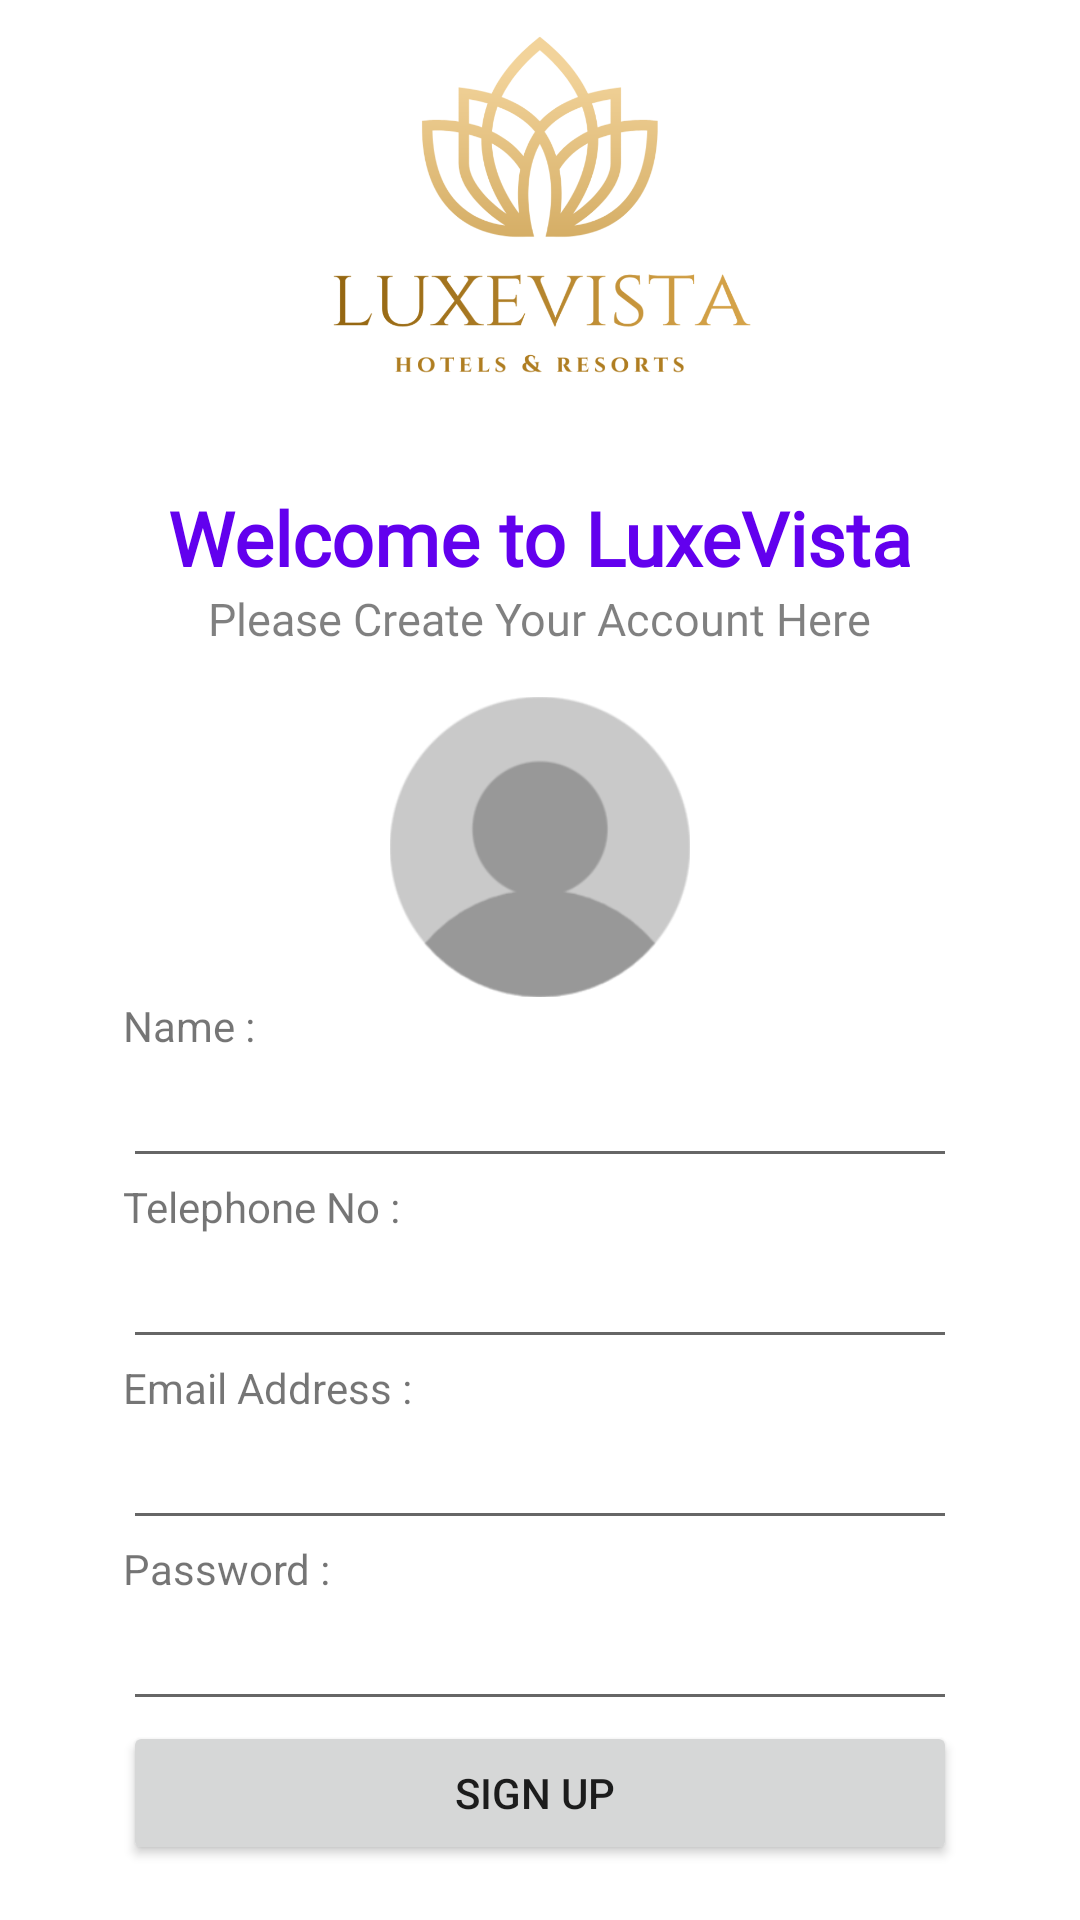

Named icons in this screenshot (1080×1920) and their bounding boxes, (x1, y1, x2, y2):
user: (390, 697, 690, 997)
